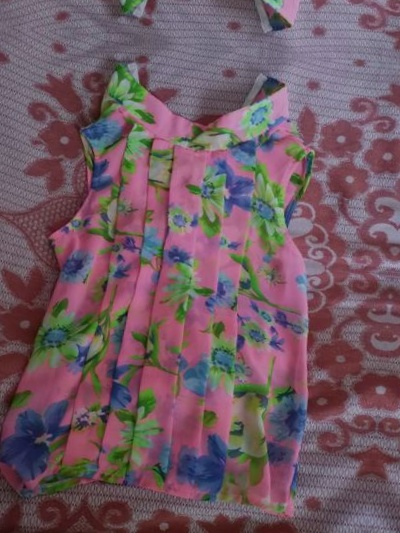Dress: (0, 55, 379, 533), (35, 0, 400, 38), (398, 98, 400, 533)
